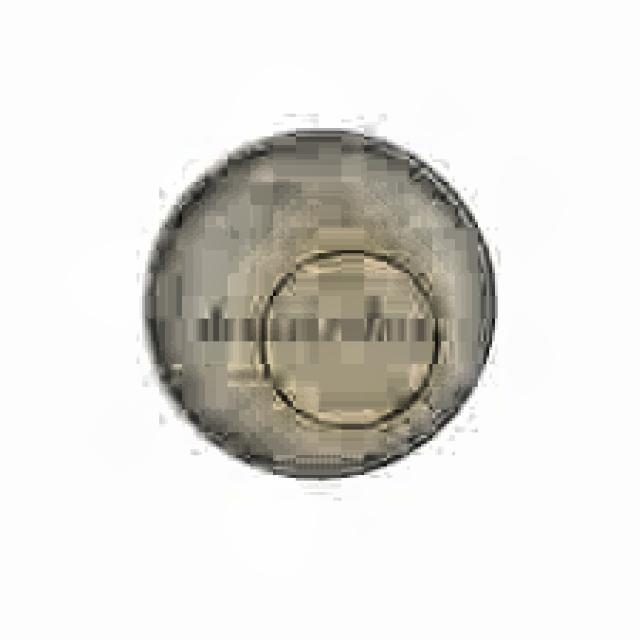Cup: (122, 114, 526, 505)
